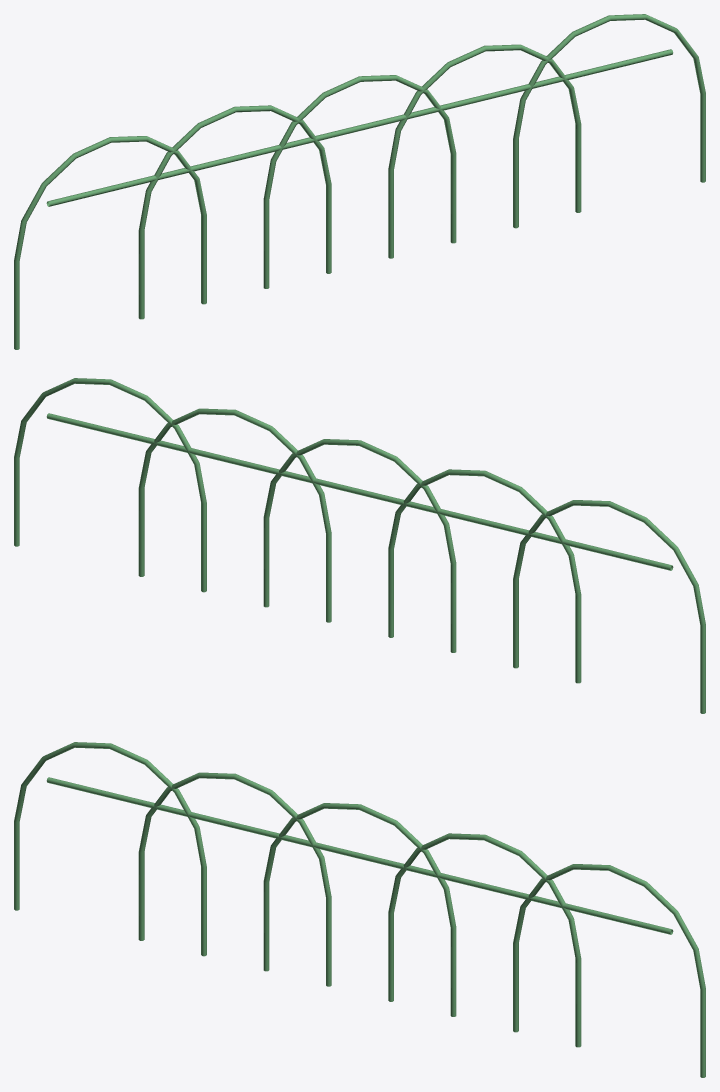
File: fence_lawn_hoop_green.glb
The picture shows the model from 3 angles, top to bottom: view 1: azimuth 30°, elevation 25°; view 2: azimuth 150°, elevation 25°; view 3: azimuth 330°, elevation 25°; orthographic projection.
Visible parts, largest first — view 1: fence_lawn_hoop_green; view 2: fence_lawn_hoop_green; view 3: fence_lawn_hoop_green.
Part boxes in pixels (bbox=[...]): fence_lawn_hoop_green: bbox=[14, 14, 705, 349]; fence_lawn_hoop_green: bbox=[14, 378, 705, 713]; fence_lawn_hoop_green: bbox=[14, 742, 705, 1077].
Size of the model in its own units: 2.21 by 0.5771 by 0.0163.
